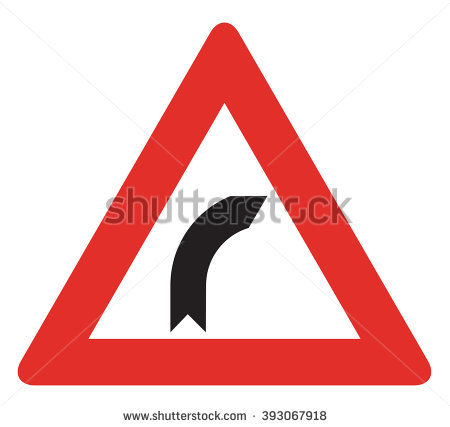Bend_to_right: (18, 20, 433, 391)
